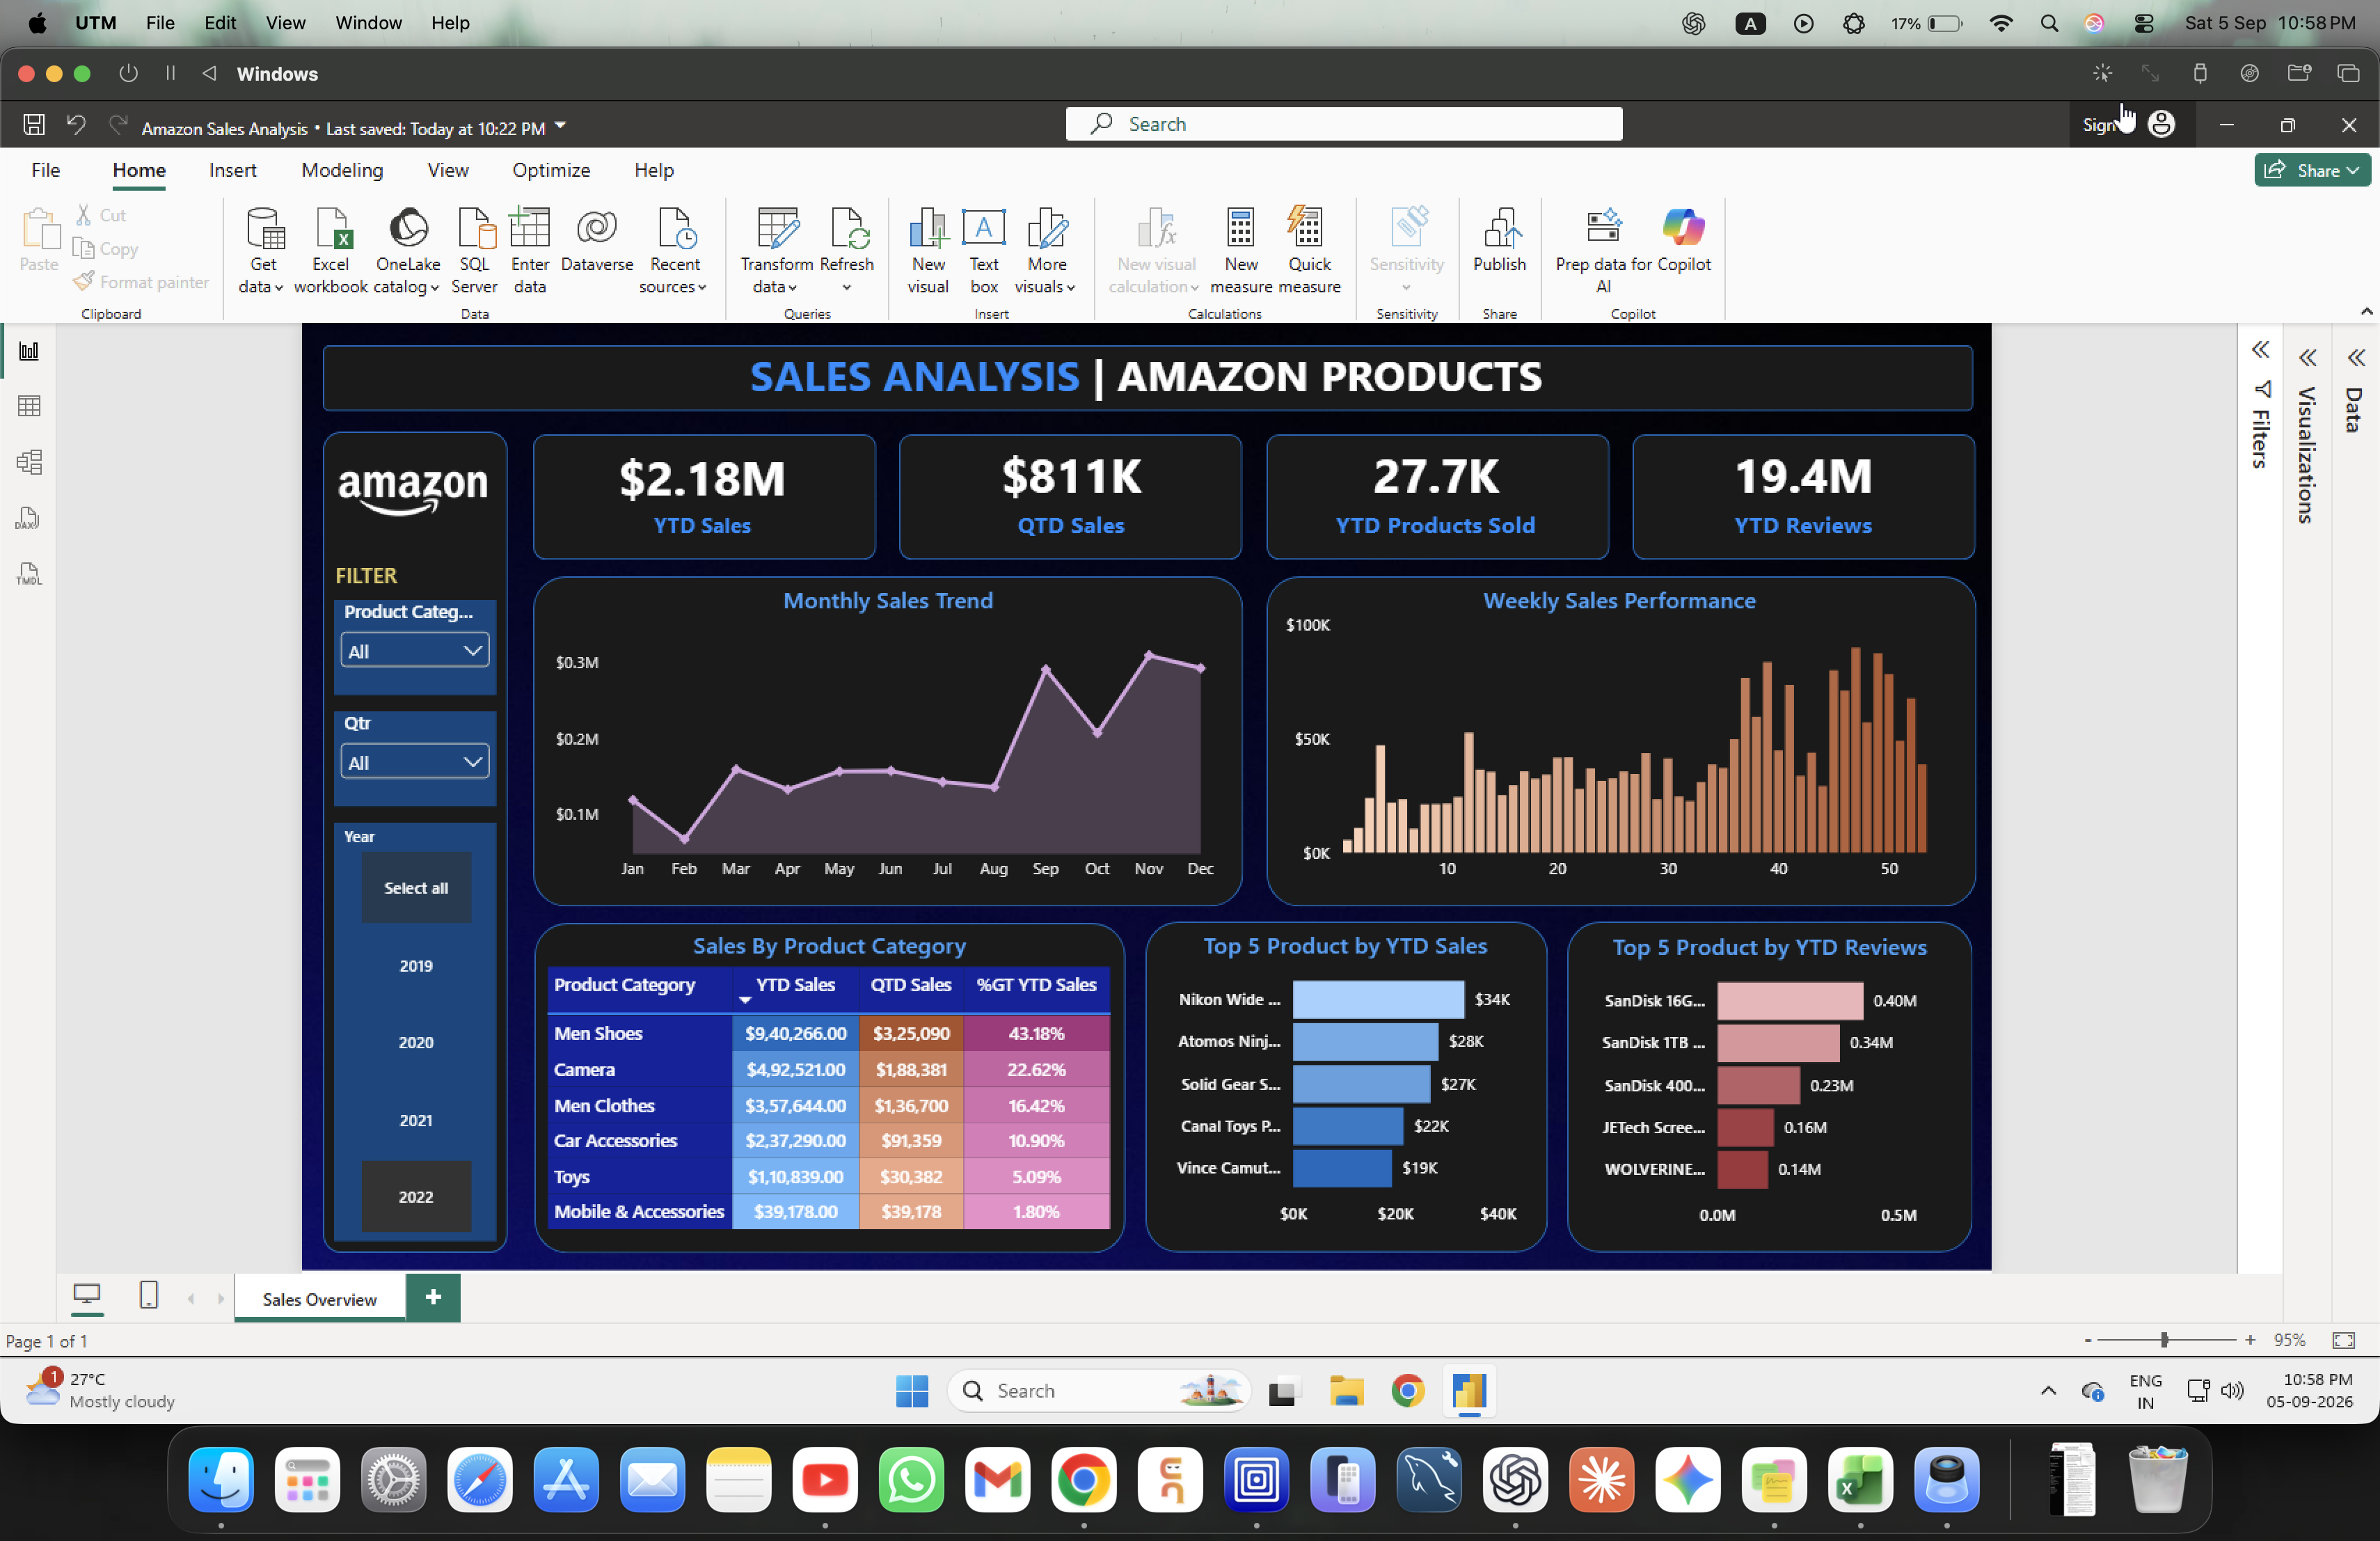

The page's visual inventory and layout, read from the dashboard file:
{"tool":"powerbi","page":{"name":"Page 1","canvas":[1280,720],"ordinal":0},"visuals":[{"type":"shape","box":[15.4,16.8,1250,50],"z":0},{"type":"shape","box":[174.6,84.3,260,95],"z":0,"group":"g1"},{"type":"textbox","box":[334,16.8,610.7,50.3],"z":1000},{"type":"cardVisual","fields":{"Data":["Amazon_Data.YTD Sales"]},"box":[173.8,85.9,259.9,95],"z":1000,"group":"g1"},{"type":"shape","box":[15.4,82.4,140,622],"z":2000},{"type":"shape","box":[1007.6,84.3,260,95],"z":2000,"group":"g1"},{"type":"group","id":"g1","title":"Group 1","box":[173.8,84.3,1093.8,96.6],"z":3000},{"type":"shape","box":[729.9,84.3,260,95],"z":3000,"group":"g1"},{"type":"shape","box":[452.2,84.3,260,95],"z":4000,"group":"g1"},{"type":"shape","box":[174.5,191.6,538,250.1],"z":4000},{"type":"cardVisual","fields":{"Data":["Amazon_Data.QTD Sales"]},"box":[452.9,84.3,259.9,95],"z":5000,"group":"g1"},{"type":"areaChart","title":"Sales by Month","fields":{"Category":["Date Table.Month Name"],"Y":["Sum(Amazon_Data.Price(Dollar))"]},"box":[175.9,191.6,536.3,250.3],"z":5000},{"type":"cardVisual","fields":{"Data":["Amazon_Data.YTD Products Sold"]},"box":[729.5,84.3,259.9,95],"z":6000,"group":"g1"},{"type":"shape","box":[730.8,191.6,538,250.1],"z":6000},{"type":"cardVisual","fields":{"Data":["Amazon_Data.YTD Reviews"]},"box":[1007.6,84.3,259.9,95],"z":7000,"group":"g1"},{"type":"columnChart","title":"Sales by Week","fields":{"Category":["Date Table.Week"],"Y":["Sum(Amazon_Data.Price(Dollar))"]},"box":[729.4,191.6,537.7,250.3],"z":7000},{"type":"shape","box":[175.9,454.8,447.6,250.3],"z":8000},{"type":"pivotTable","title":"Sales By Product Category","fields":{"Rows":["Amazon_Data.Product Category"],"Values":["Amazon_Data.YTD Sales","Amazon_Data.QTD Sales","Divide(Amazon_Data.YTD Sales, ScopedEval(Amazon_Data.YTD Sales, []))"]},"box":[175.9,453.4,447.6,250.3],"z":9000},{"type":"shape","box":[958.2,453.2,307.3,250.7],"z":10000},{"type":"shape","box":[638.8,453.2,304.9,250.7],"z":11000},{"type":"clusteredBarChart","title":"Top 5 Product by YTD Sales","fields":{"Category":["Amazon_Data.Product Description"],"Y":["Amazon_Data.YTD Sales"]},"box":[635.2,453.2,309.8,250.7],"z":12000},{"type":"clusteredBarChart","title":"Top 5 Product by YTD Reviews","fields":{"Category":["Amazon_Data.Product Description"],"Y":["Amazon_Data.YTD Reviews"]},"box":[957,454.4,309.8,250.7],"z":13000},{"type":"slicer","fields":{"Values":["Amazon_Data.Product Category"]},"box":[24.3,210.2,123,71.5],"z":14000,"group":"g2"},{"type":"slicer","fields":{"Values":["Date Table.Qtr"]},"box":[24.3,294.6,123,71.5],"z":15000,"group":"g2"},{"type":"slicer","fields":{"Values":["Date Table.Year"]},"box":[24.3,379,123,317.5],"z":16000,"group":"g2"},{"type":"image","box":[21.5,94.4,128.7,74.4],"z":17000},{"type":"group","id":"g2","title":"Group 2","box":[24.3,210.2,123,486.3],"z":17001},{"type":"textbox","box":[24.8,180.6,82.6,29.5],"z":17002}]}

Visuals, with their boxes on the page's 1280x720 design canvas (x1, y1, x2, y2). These are canvas units, not pixel positions in the 2380x1541 screenshot, which may show the page scaled, cropped or inside an application window:
shape: BBox(15, 17, 1265, 67)
shape: BBox(175, 84, 435, 179)
textbox: BBox(334, 17, 945, 67)
cardVisual - Amazon_Data.YTD Sales: BBox(174, 86, 434, 181)
shape: BBox(15, 82, 155, 704)
shape: BBox(1008, 84, 1268, 179)
"Group 1" group: BBox(174, 84, 1268, 181)
shape: BBox(730, 84, 990, 179)
shape: BBox(452, 84, 712, 179)
shape: BBox(174, 192, 712, 442)
cardVisual - Amazon_Data.QTD Sales: BBox(453, 84, 713, 179)
"Sales by Month" areaChart: BBox(176, 192, 712, 442)
cardVisual - Amazon_Data.YTD Products Sold: BBox(730, 84, 989, 179)
shape: BBox(731, 192, 1269, 442)
cardVisual - Amazon_Data.YTD Reviews: BBox(1008, 84, 1268, 179)
"Sales by Week" columnChart: BBox(729, 192, 1267, 442)
shape: BBox(176, 455, 624, 705)
"Sales By Product Category" pivotTable: BBox(176, 453, 624, 704)
shape: BBox(958, 453, 1266, 704)
shape: BBox(639, 453, 944, 704)
"Top 5 Product by YTD Sales" clusteredBarChart: BBox(635, 453, 945, 704)
"Top 5 Product by YTD Reviews" clusteredBarChart: BBox(957, 454, 1267, 705)
slicer - Amazon_Data.Product Category: BBox(24, 210, 147, 282)
slicer - Date Table.Qtr: BBox(24, 295, 147, 366)
slicer - Date Table.Year: BBox(24, 379, 147, 696)
image: BBox(22, 94, 150, 169)
"Group 2" group: BBox(24, 210, 147, 696)
textbox: BBox(25, 181, 107, 210)
